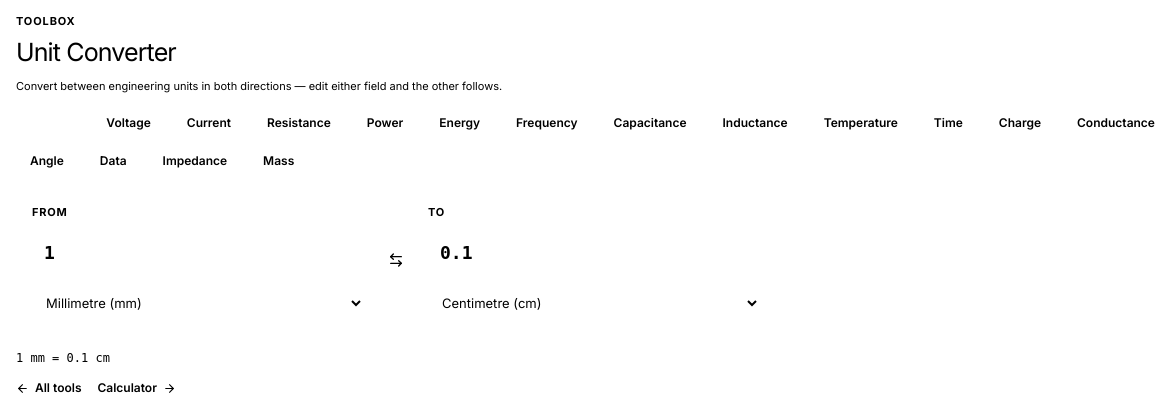
Scenario: UnitConverterPage UI › updates To when From changes and category switch resets units
Replace the text in the field labelled "From" with "2" at (198,253), box [32, 228, 364, 277]
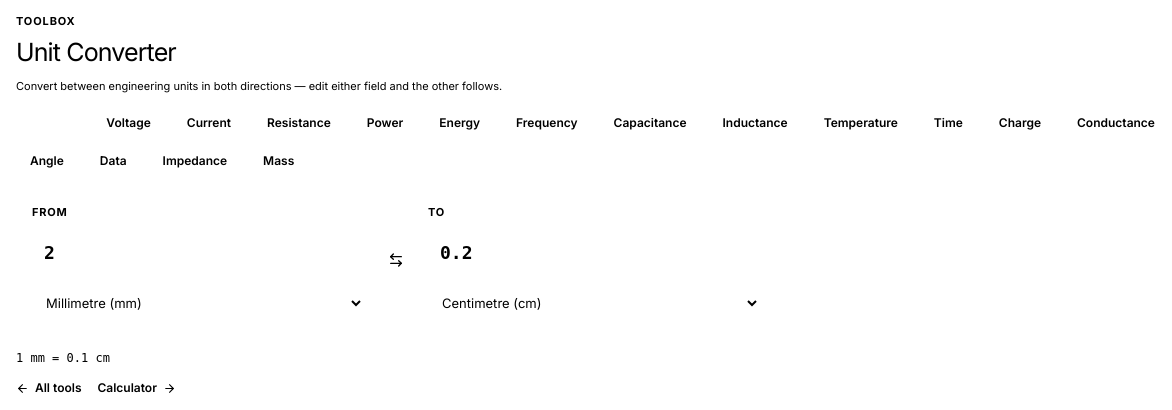
Expected: the field labelled "To" holds "0.2", [428, 228, 760, 277]
Click the tab "Voltage" at (129,123), box [92, 108, 165, 138]
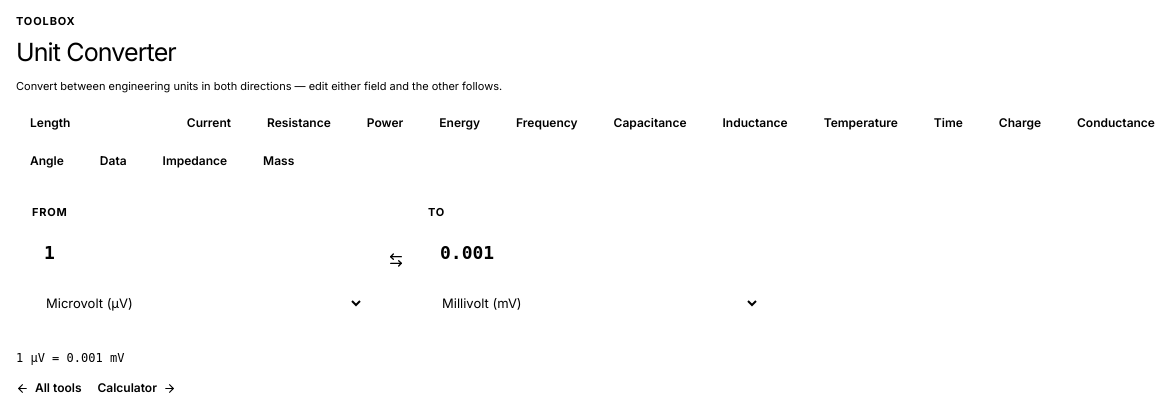
Expected: the field labelled "From" holds "1", [32, 228, 364, 277]
Expected: the field labelled "To" holds "0.001", [428, 228, 760, 277]
